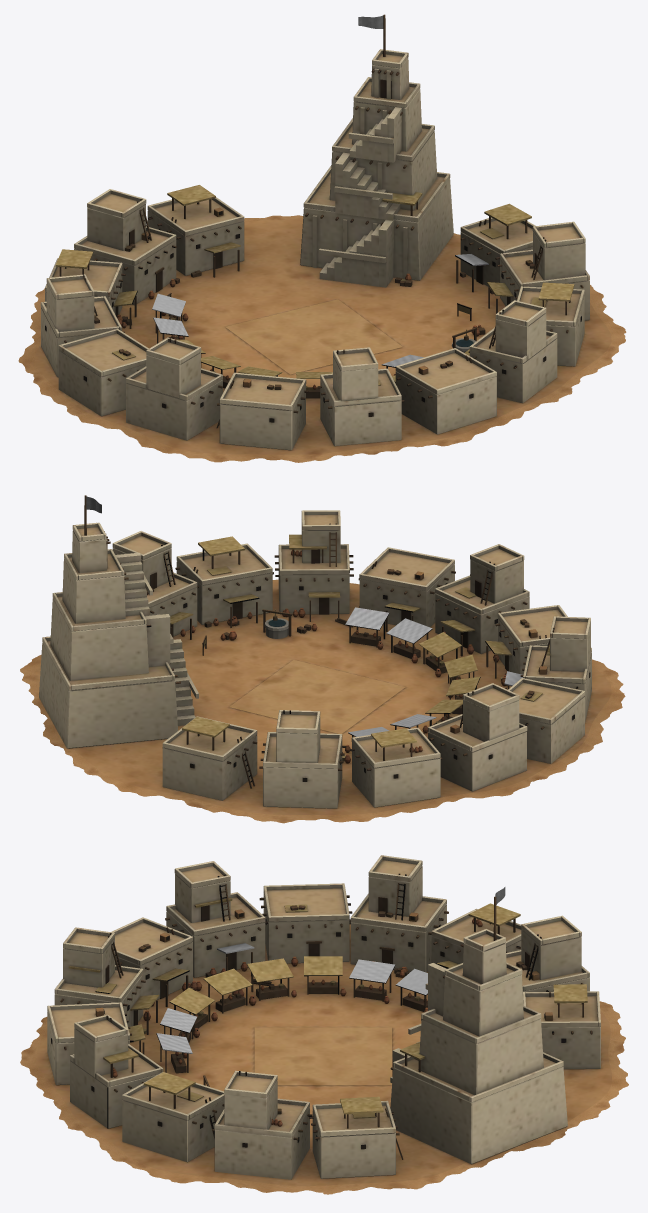
File: bronze-town-medium-a.glb
3 views of the same model, one above another, from view 1: azimuth 30°, elevation 25°; view 2: azimuth 150°, elevation 25°; view 3: azimuth 270°, elevation 25° (orthographic). The views are drawn at different scales.
Parts seen in each view (by area): view 1: LOD0; view 2: LOD0; view 3: LOD0.
Boxes of the visible parts, x1=… form: LOD0: x1=18, y1=14, x2=626, y2=462; LOD0: x1=20, y1=495, x2=625, y2=823; LOD0: x1=20, y1=855, x2=628, y2=1194.
Size of what is drawn, in the model's own units: 5.92 by 2.4 by 5.6.
Materials: 3 (3 with a texture image).
